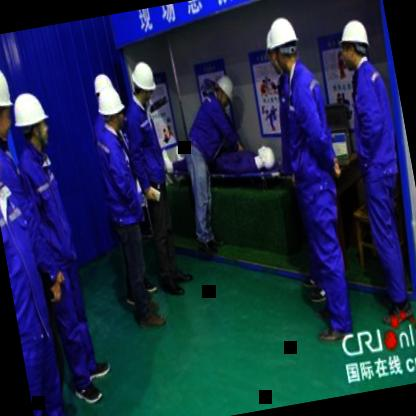helmet: (8, 87, 58, 154), (333, 12, 380, 79), (264, 10, 304, 72), (93, 86, 130, 136), (0, 53, 18, 144), (127, 56, 158, 103), (260, 26, 285, 78), (211, 69, 238, 111), (90, 70, 118, 106), (0, 92, 9, 189)
